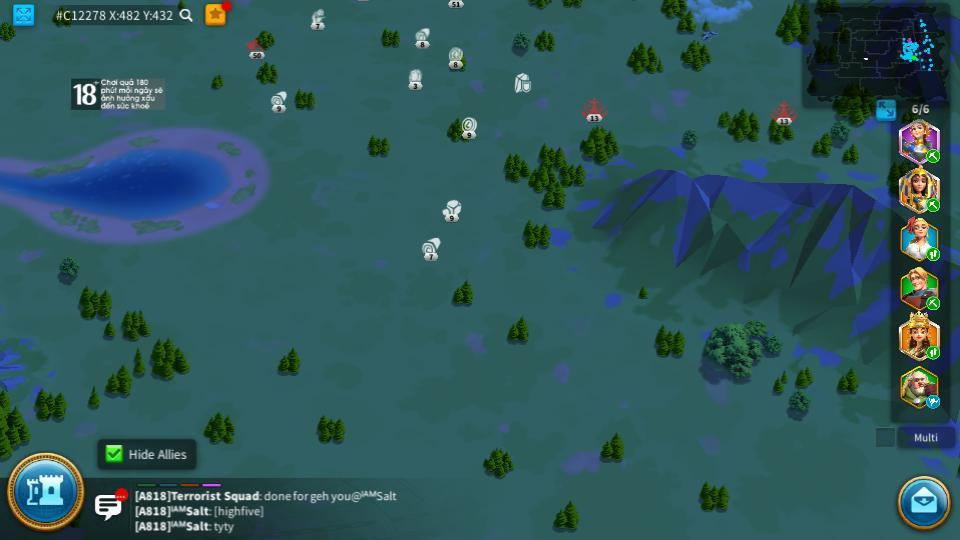gem-z-out: (447, 46, 464, 67), (407, 69, 423, 89)
march_idle: (925, 396, 942, 408)
march_marching: (925, 197, 941, 212), (925, 248, 943, 260), (925, 347, 942, 359), (925, 150, 942, 162), (925, 297, 942, 308)
